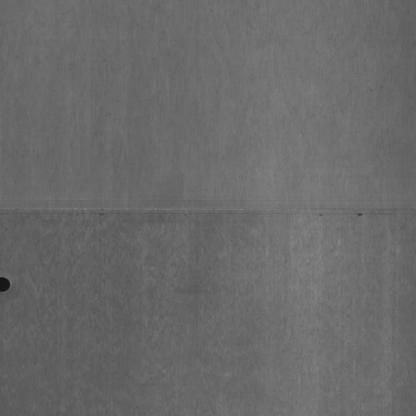punching_hole: (0, 270, 18, 296)
silk_spot: (7, 231, 408, 416)
welding_line: (0, 192, 415, 228)
